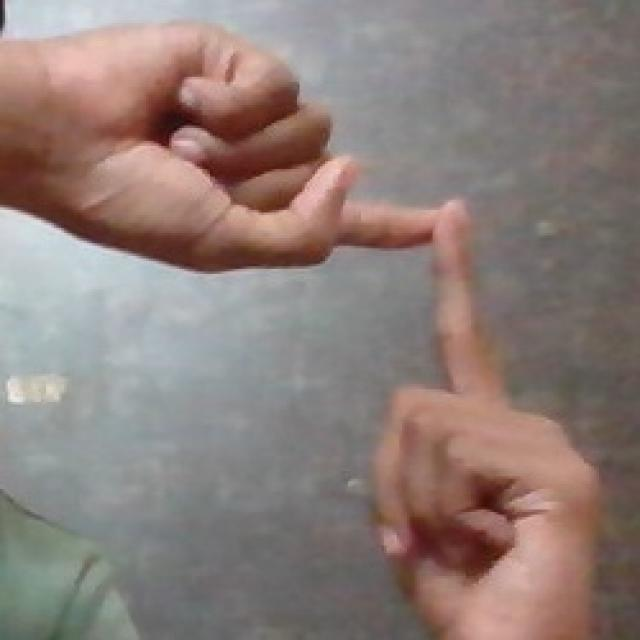Alphabet-E: (4, 23, 436, 271)
